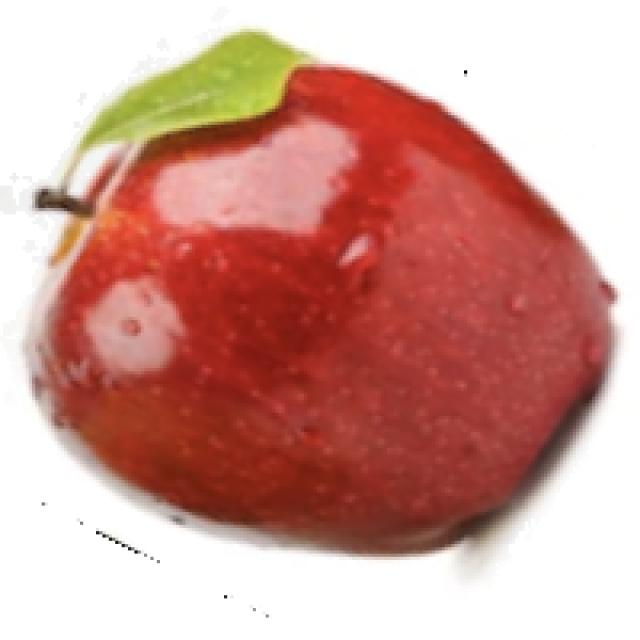apple: (0, 3, 627, 589)
